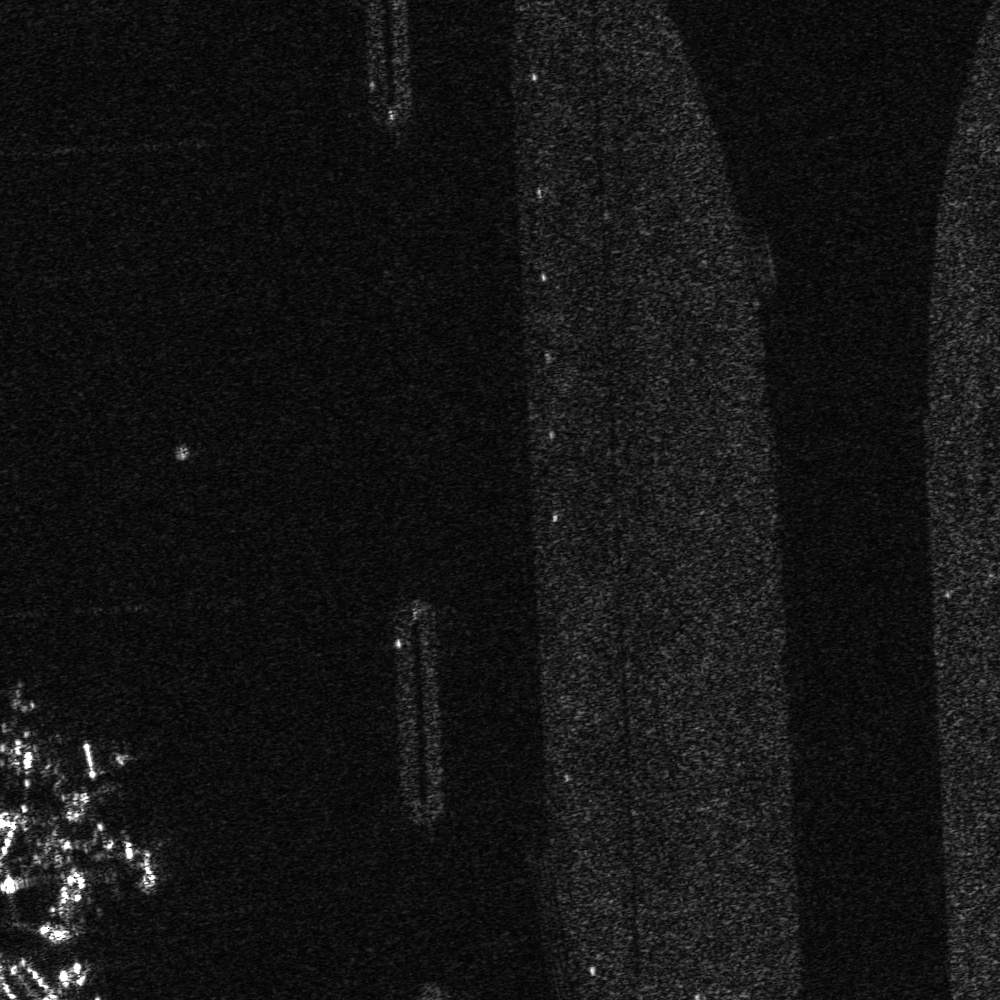A320/321: (1, 687, 60, 786)
